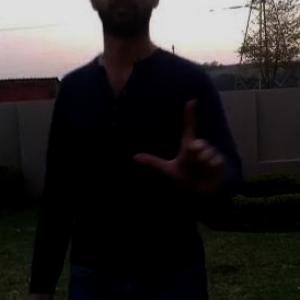land_hand: (135, 95, 232, 196)
